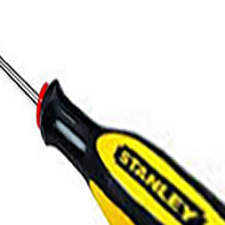screwdriver: (1, 48, 225, 225)
